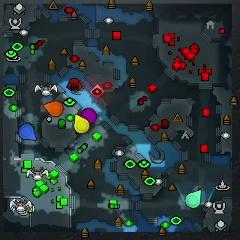p1: (19, 124, 37, 140)
p2: (186, 189, 201, 208)
p3: (78, 107, 97, 125)
p4: (73, 114, 89, 134)
p5: (45, 101, 64, 116)
